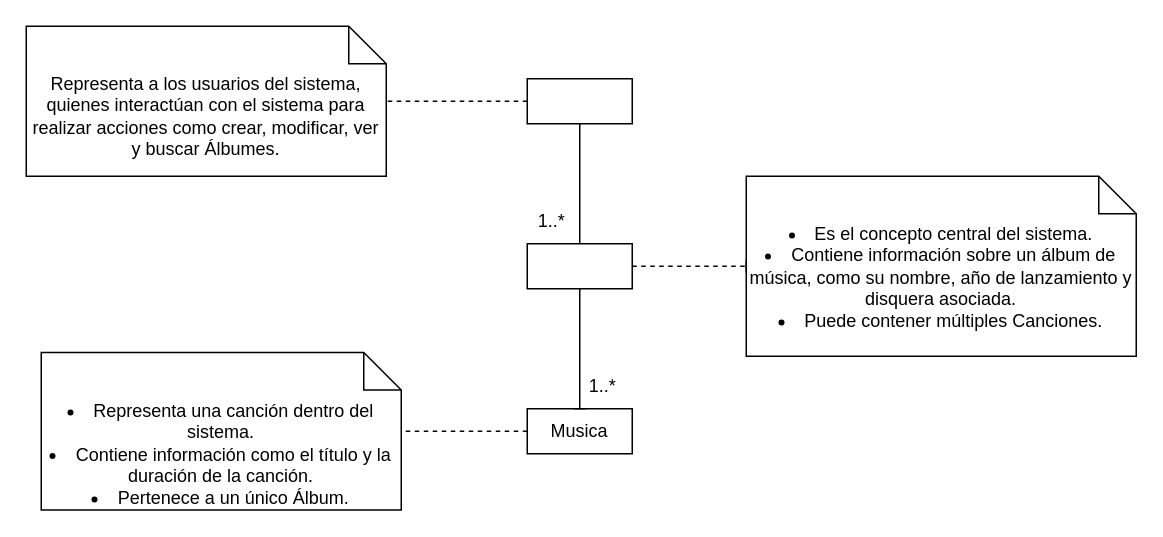
This 1163x537 diagram has some shape labels left out. Here are the shapes that lost their labels. From the top down, the box of each, then its label:
(526, 77, 632, 124): Usuario
(526, 242, 632, 289): Album
